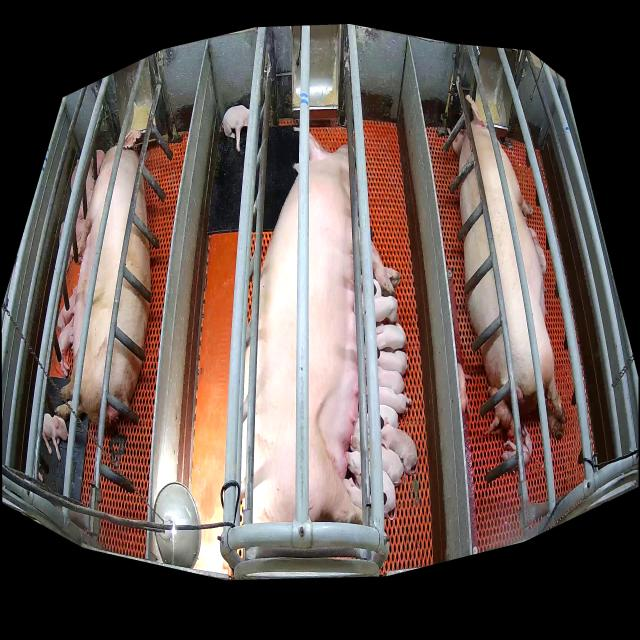pig: (241, 135, 401, 523), (453, 94, 568, 440), (56, 129, 151, 428), (346, 451, 396, 520), (350, 432, 404, 484), (381, 417, 418, 475), (486, 386, 514, 438), (222, 105, 249, 151), (502, 425, 532, 464), (43, 414, 68, 460), (58, 316, 74, 377), (58, 286, 77, 330), (379, 387, 411, 413), (529, 228, 546, 275), (457, 364, 472, 417), (376, 324, 406, 350), (378, 366, 404, 394), (378, 351, 408, 375), (374, 296, 397, 323), (343, 478, 362, 508), (380, 405, 398, 428)
